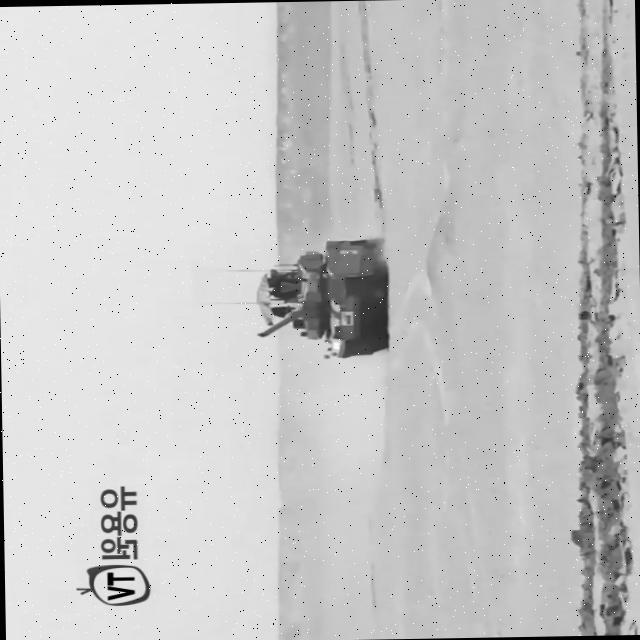korea tank: (250, 235, 392, 361)
